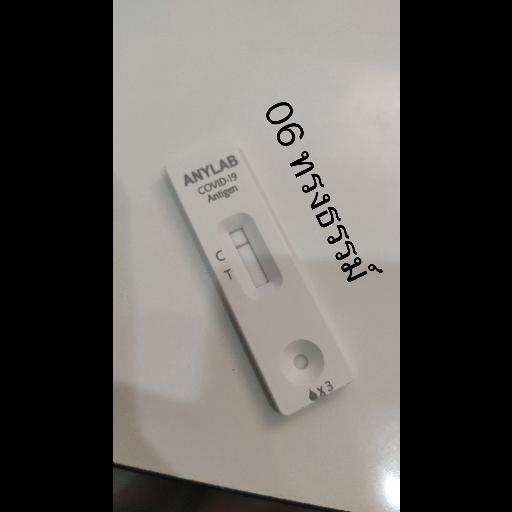Neg: (165, 135, 355, 419)
